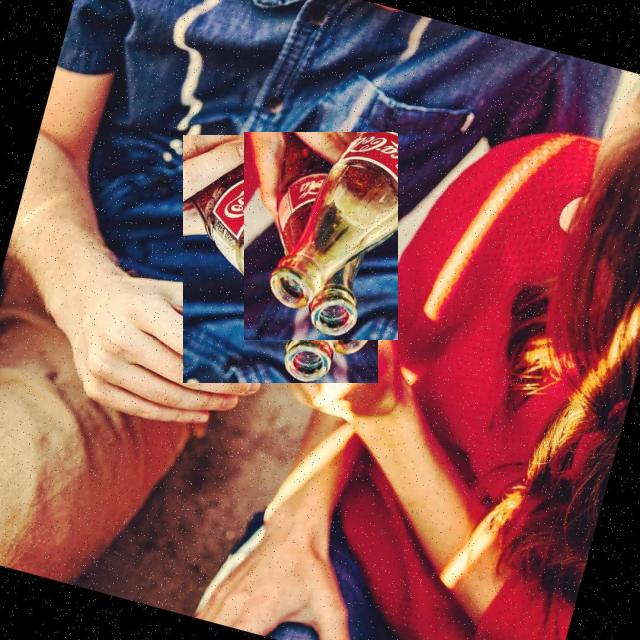coca-cola: (183, 135, 378, 383), (244, 132, 398, 340)
